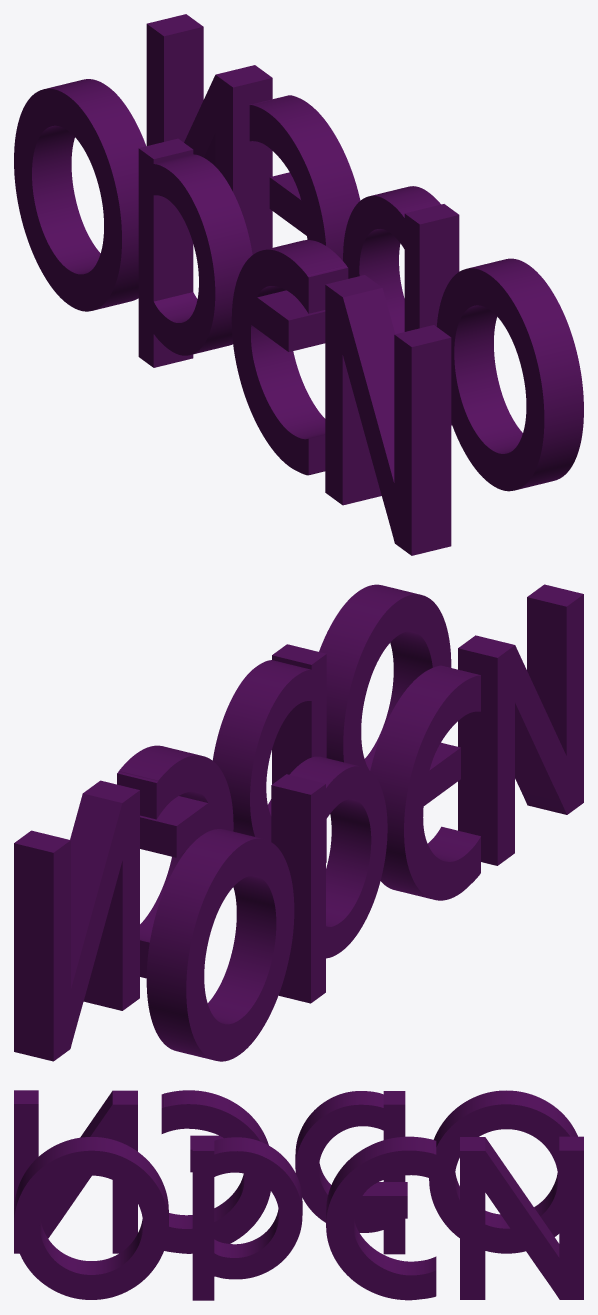
Rendered from open.fbx.
The picture shows the model from 3 angles, top to bottom: view 1: azimuth 30°, elevation 25°; view 2: azimuth 150°, elevation 25°; view 3: azimuth 270°, elevation 25°; orthographic projection. The views are drawn at different scales.
Parts seen in each view (by area): view 1: open002; view 2: open002; view 3: open002.
Boxes of the visible parts, x1=… form: open002: x1=14, y1=14, x2=583, y2=555; open002: x1=14, y1=584, x2=583, y2=1061; open002: x1=14, y1=1090, x2=583, y2=1300.
Bounding box in the file's own units: 13.05 × 15.18 × 52.2.
